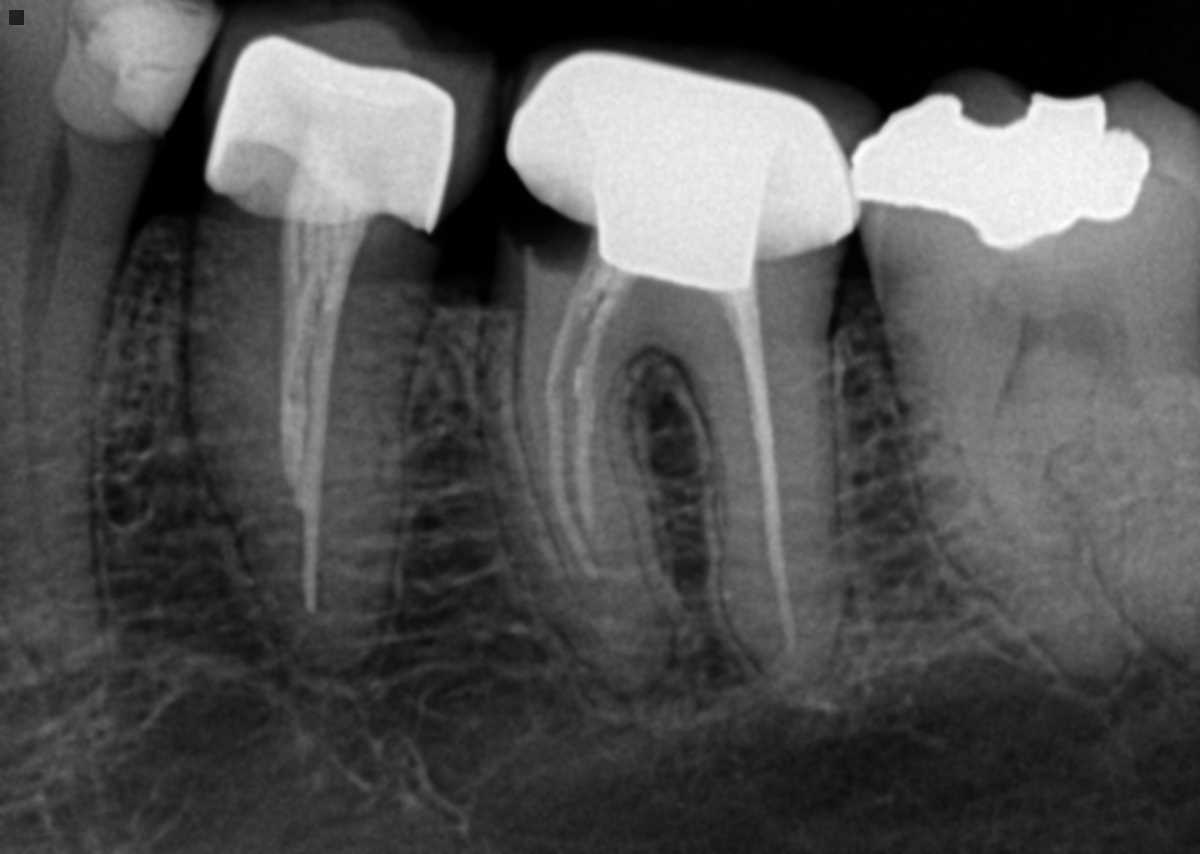Distal Root: (682, 327, 850, 687), (1077, 367, 1200, 674)
Main Canal: (21, 133, 75, 655)
Main Root: (183, 216, 439, 678), (0, 124, 157, 682)
Mesial Canal: (994, 364, 1024, 497)
Mesial Root: (912, 356, 1130, 689), (491, 317, 676, 699)
Root Canal Filling: (273, 228, 375, 620), (727, 284, 797, 664), (547, 264, 607, 587), (573, 274, 640, 545)
decay: (492, 170, 598, 287)
